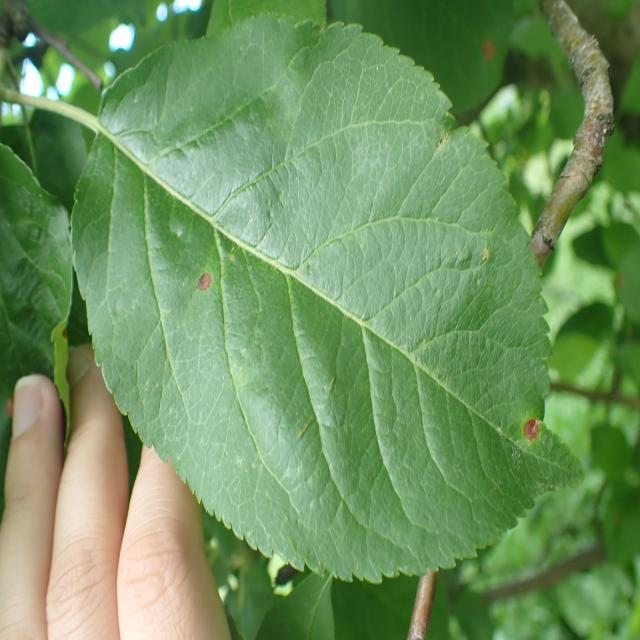Black Rot: (187, 252, 223, 342), (515, 402, 550, 464)
